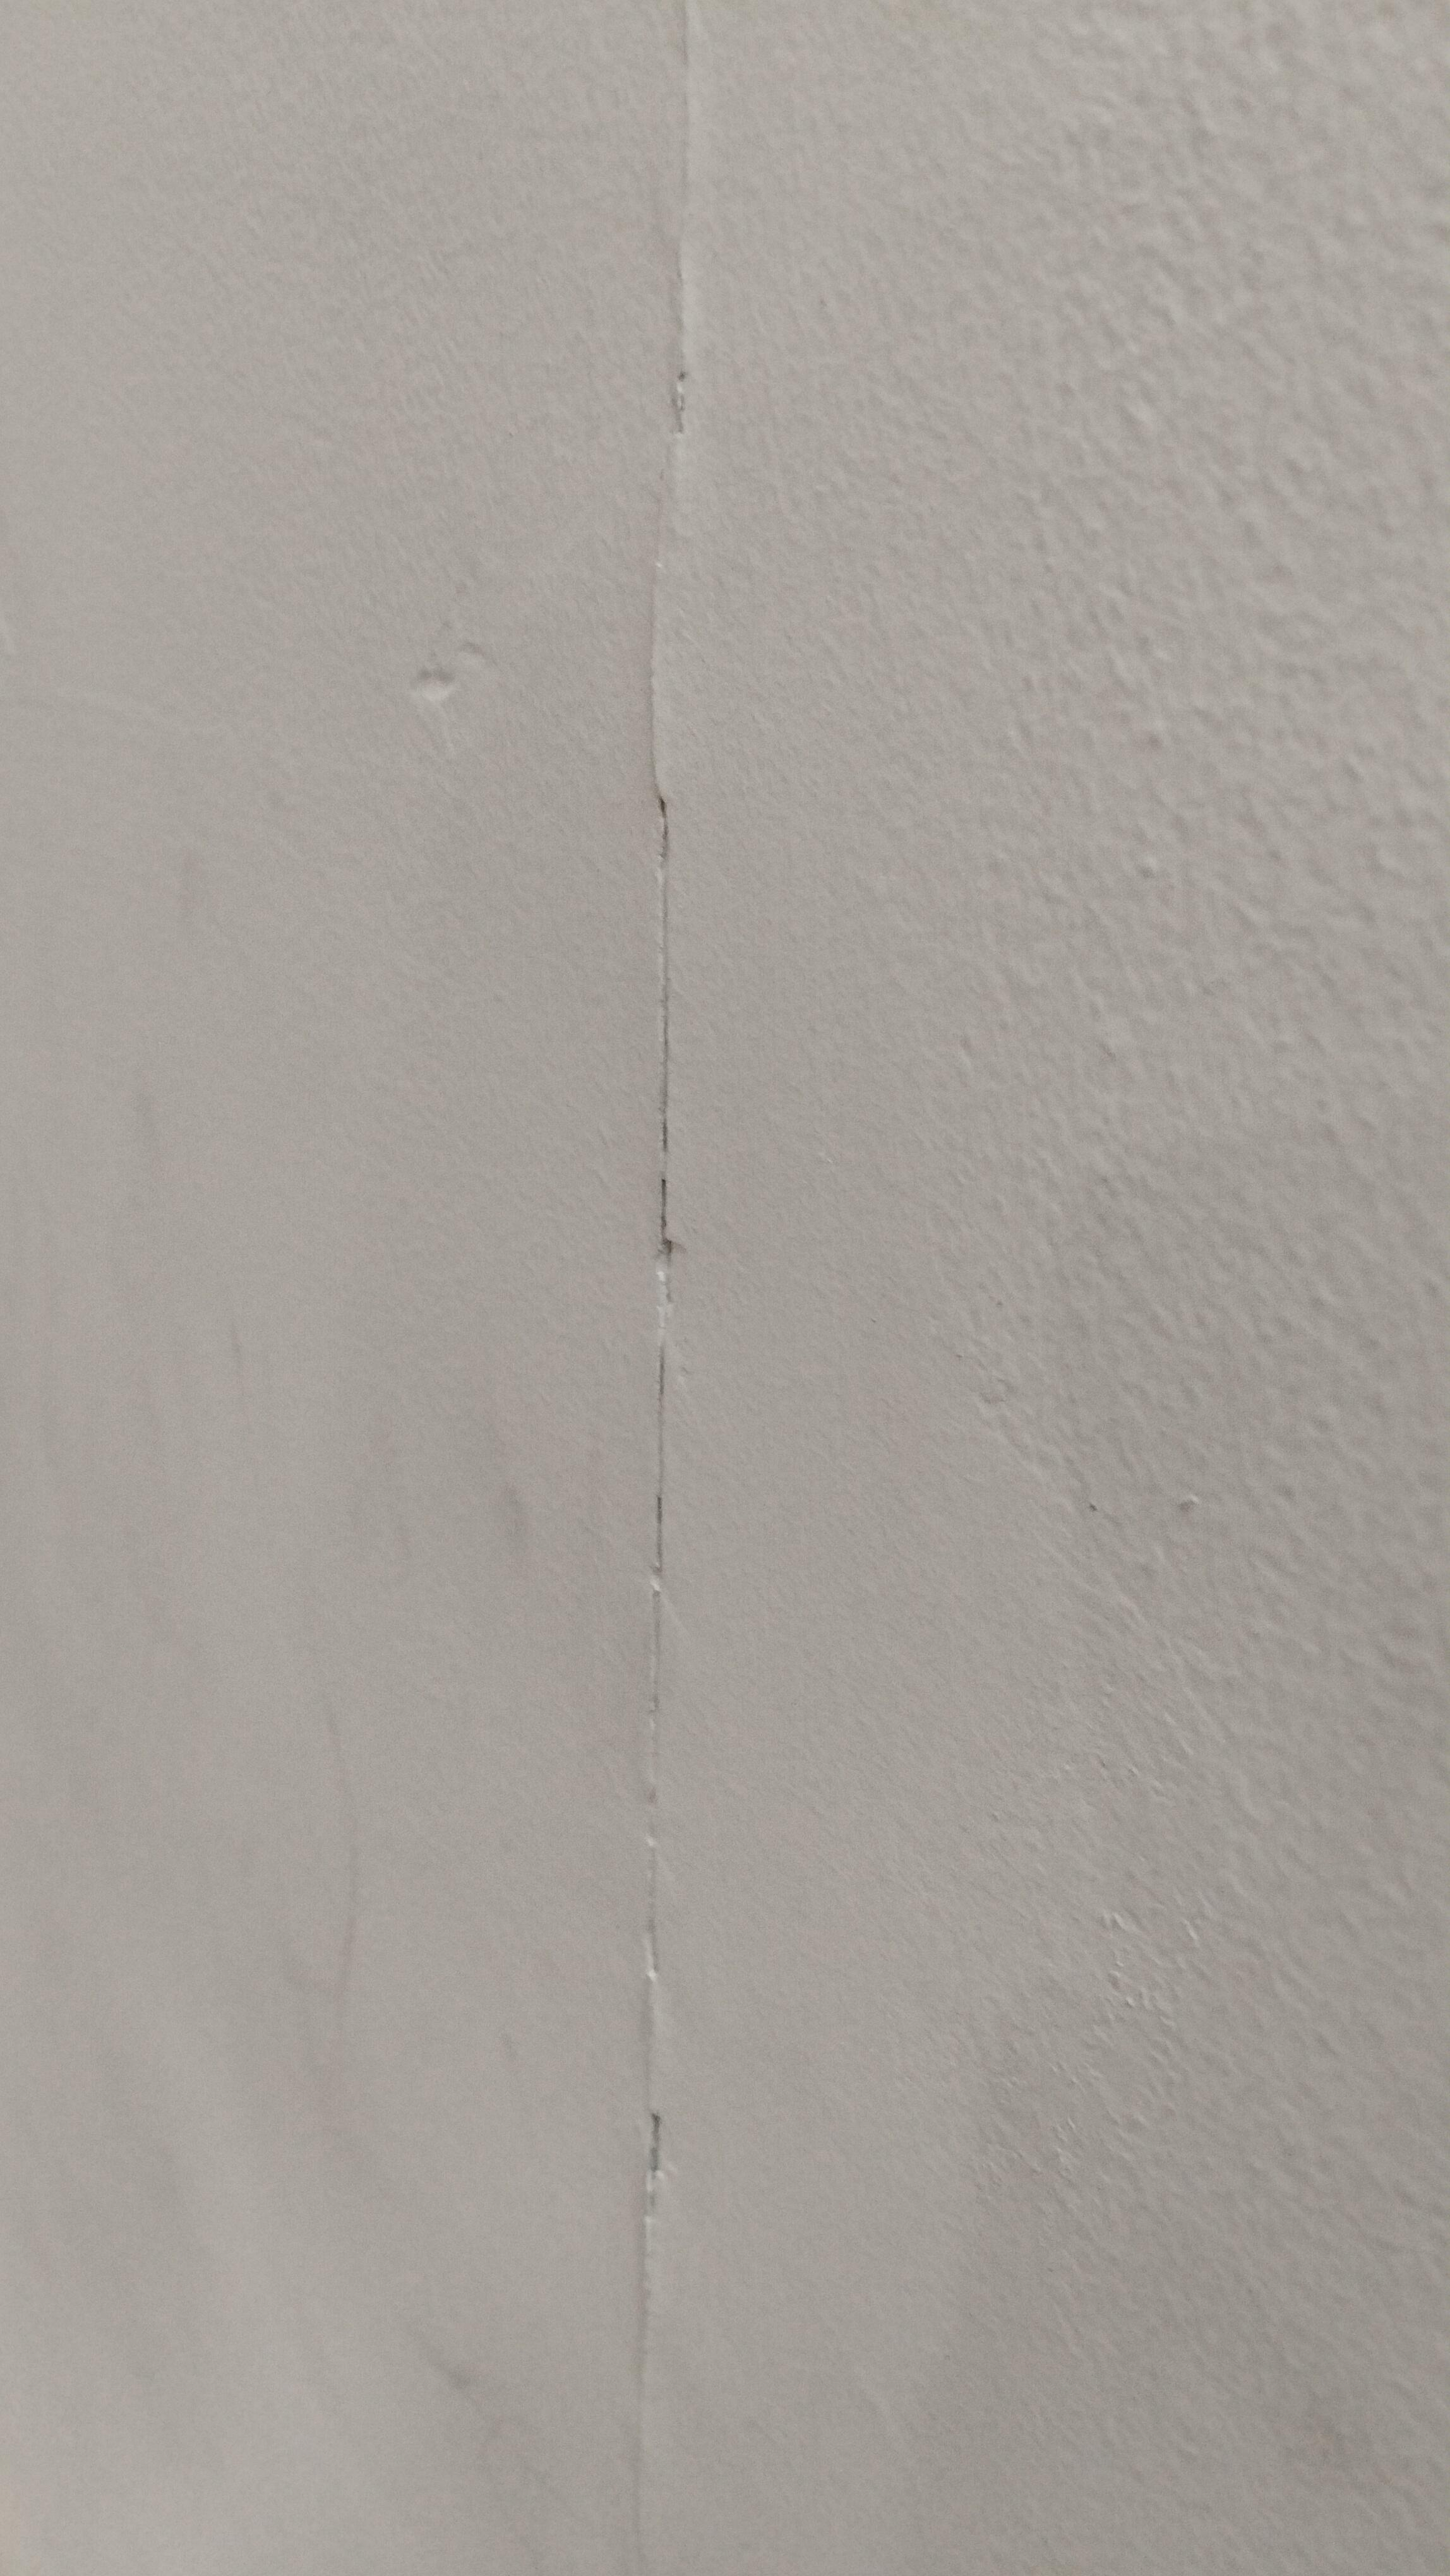Crack: (605, 81, 733, 1313), (613, 1352, 726, 1787), (620, 2084, 692, 2293), (620, 1884, 675, 2052)
